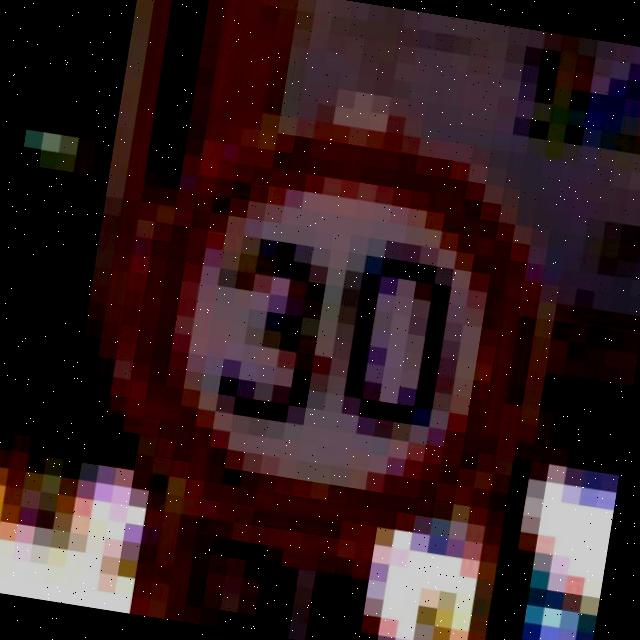Ograniczenie predkosci do 30: (111, 108, 561, 563)
